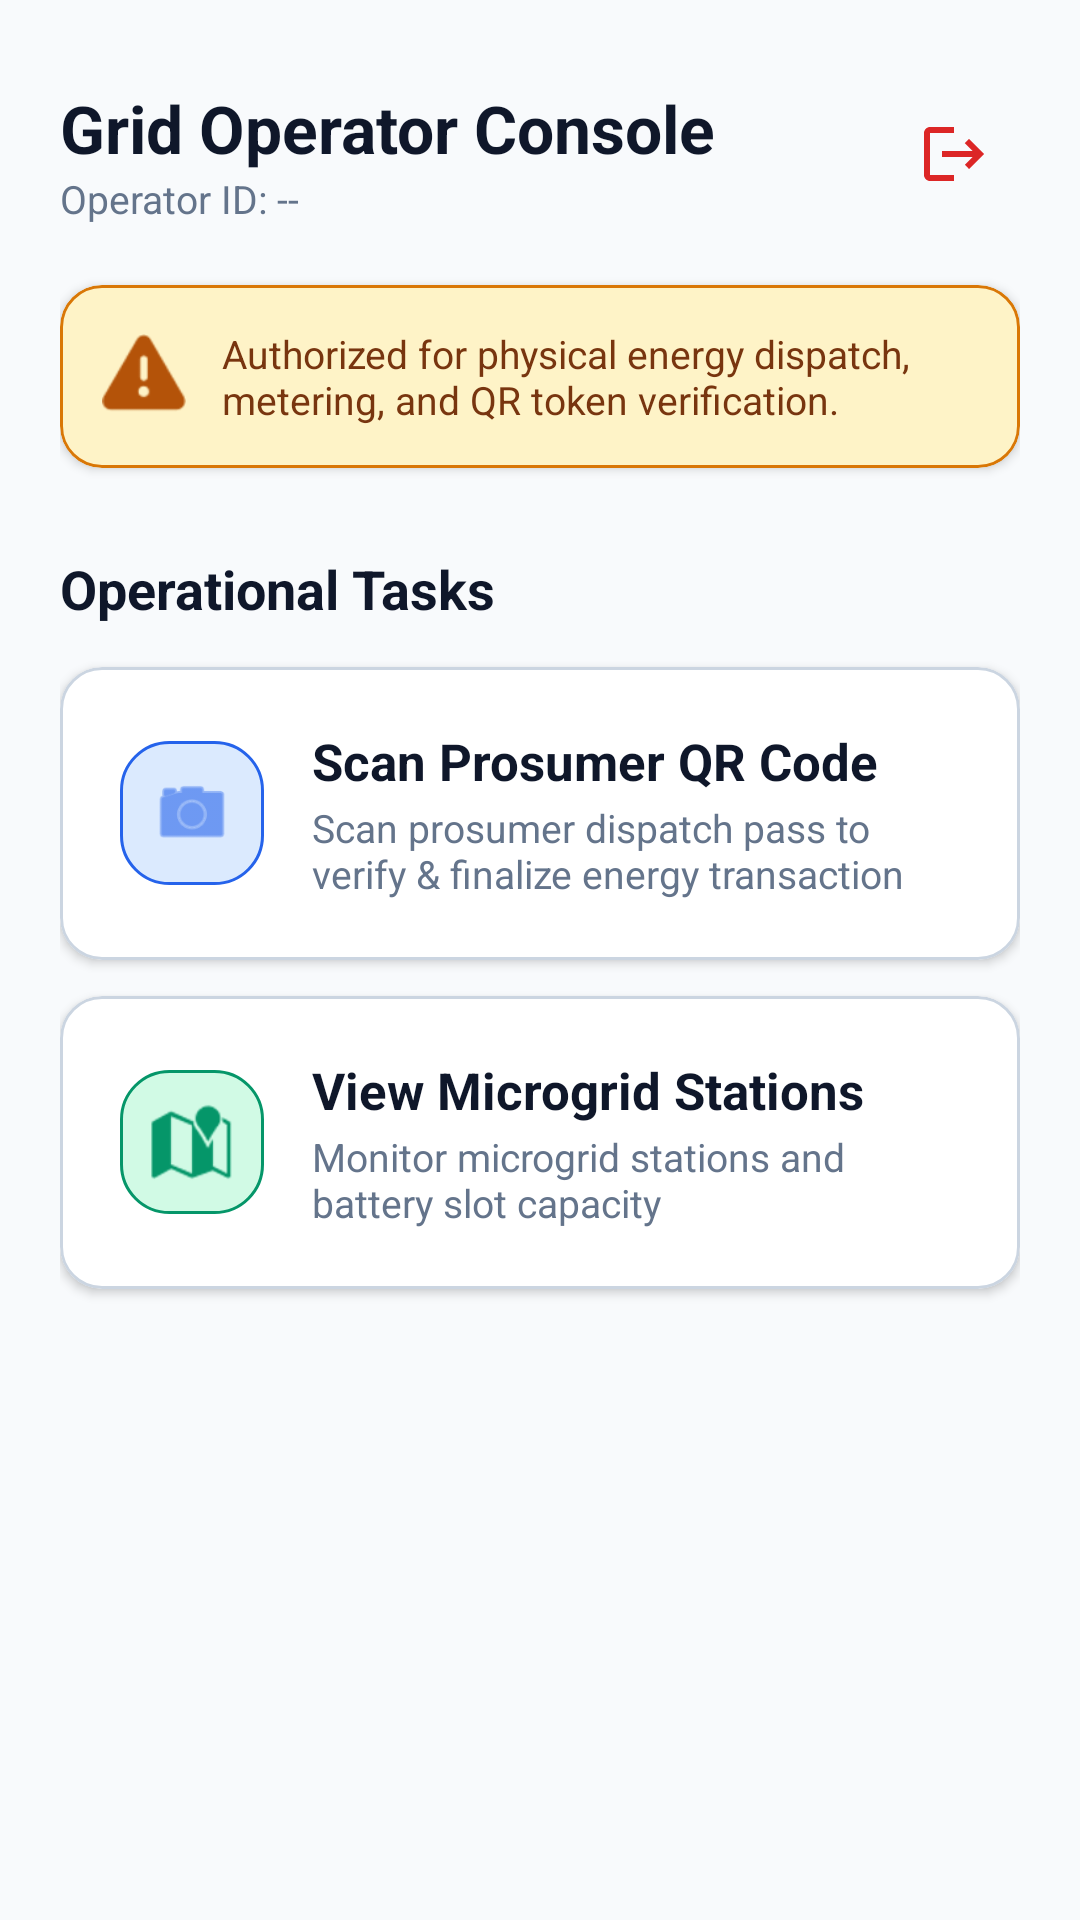

Locate icon controls on the screen. Image size 1080x1920, boxes as (x1, y1, x2, y2).
alert: (102, 334, 186, 411)
camera: (120, 741, 264, 885)
map: (120, 1070, 264, 1214)
